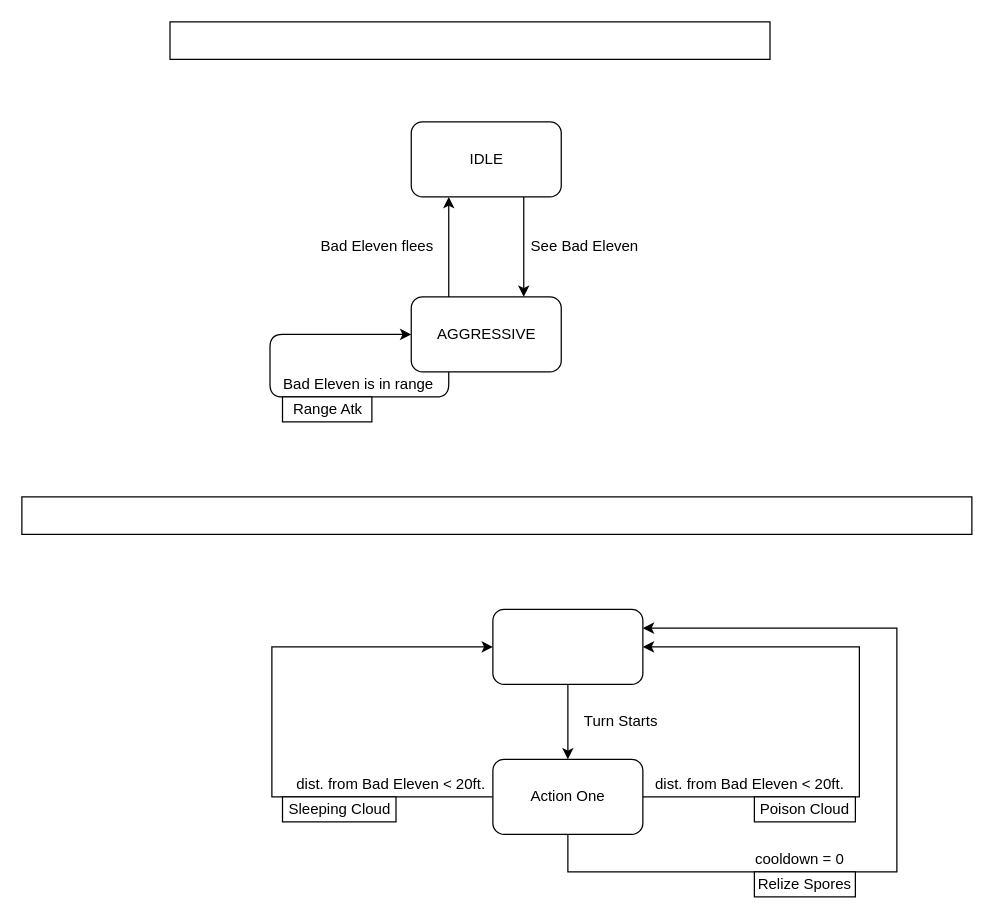
This 994x919 diagram has some shape labels left out. Each missing label, with the centre of its shape:
"Battle Mode" belongs at pixel 496 515.
"Free Roaming" belongs at pixel 469 40.
"Wait Turn" belongs at pixel 567 646.
